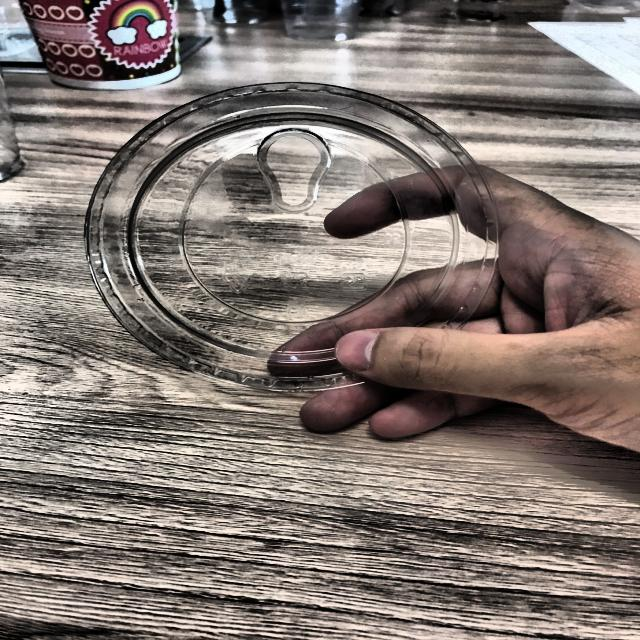plastic cup: (61, 78, 538, 415)
